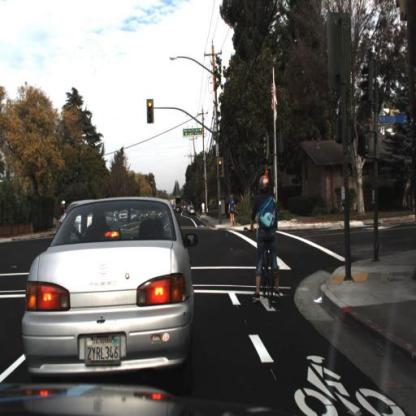biker: (242, 167, 286, 318), (57, 194, 70, 226)
car: (10, 183, 207, 390)
pedestrian: (225, 190, 239, 232), (199, 197, 207, 220)
trafficLight-Red: (147, 104, 160, 139), (216, 155, 226, 182), (146, 98, 154, 124)
